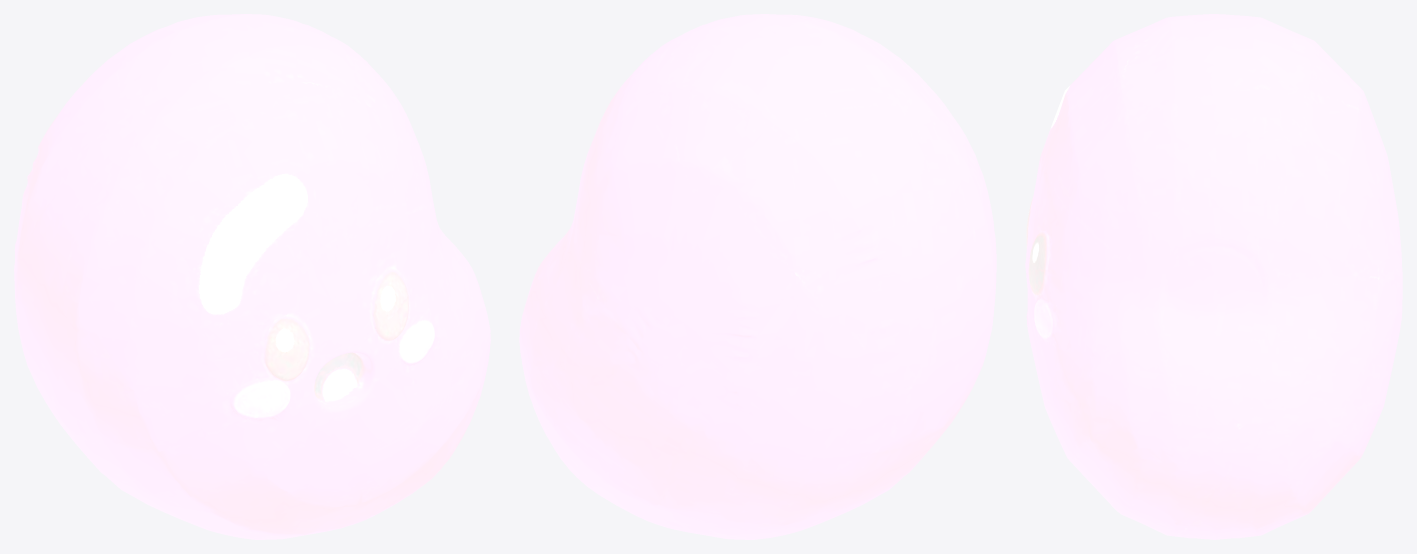
Rendered from Meshy_AI_Joyful_Bean_0811174216_texture.glb.
3 views of the same model, side by side, from view 1: azimuth 30°, elevation 25°; view 2: azimuth 150°, elevation 25°; view 3: azimuth 270°, elevation 25° (orthographic). The views are drawn at different scales.
Parts seen in each view (by area): view 1: mesh_node; view 2: mesh_node; view 3: mesh_node.
Part boxes in pixels (x1,y1,x2,y2): mesh_node: [14, 14, 490, 539]; mesh_node: [519, 14, 996, 539]; mesh_node: [1025, 14, 1402, 539].
Bounding box in the file's own units: 1.69 × 1.9 × 1.4.
Materials: 1 (1 with a texture image).
